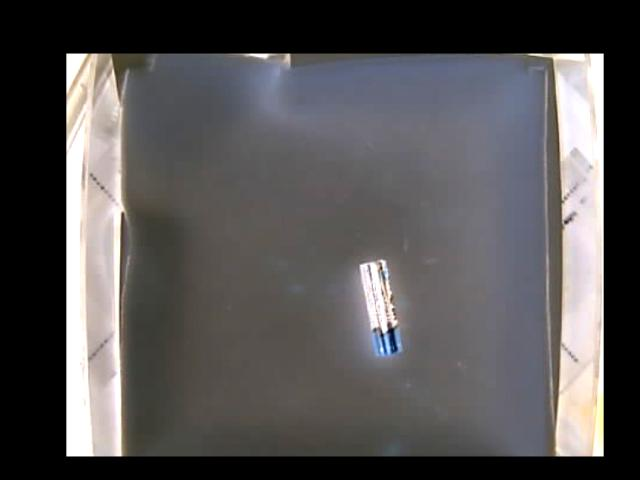Battery: (359, 260, 402, 354)
